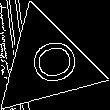O_W: (16, 36, 77, 91)
